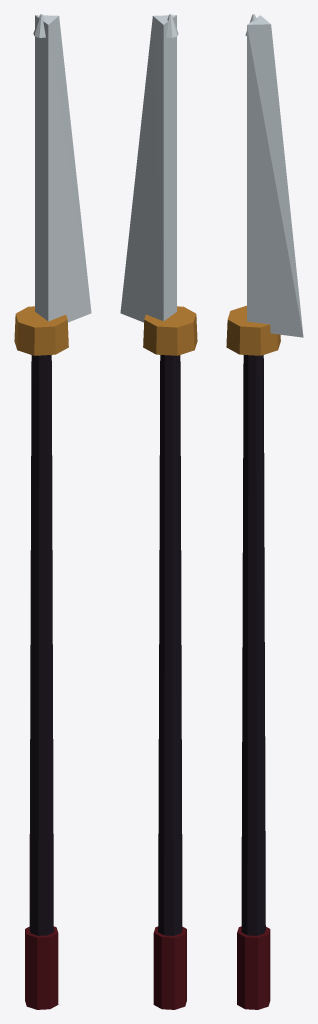
File: weapon_KGB_WPN_Naginata_CLOSED_DRAFT_v02.glb
3 views of the same model, side by side, from view 1: azimuth 30°, elevation 25°; view 2: azimuth 150°, elevation 25°; view 3: azimuth 330°, elevation 25° (orthographic).
Visible parts, largest first — view 1: KGB_WPN_Naginata_CLOSED_DRAFT_v02; view 2: KGB_WPN_Naginata_CLOSED_DRAFT_v02; view 3: KGB_WPN_Naginata_CLOSED_DRAFT_v02.
Boxes of the visible parts, x1=… form: KGB_WPN_Naginata_CLOSED_DRAFT_v02: x1=14, y1=14, x2=91, y2=1009; KGB_WPN_Naginata_CLOSED_DRAFT_v02: x1=120, y1=14, x2=197, y2=1009; KGB_WPN_Naginata_CLOSED_DRAFT_v02: x1=226, y1=14, x2=303, y2=1009.
Bounding box in the file's own units: 0.7 × 8.9 × 0.46.
